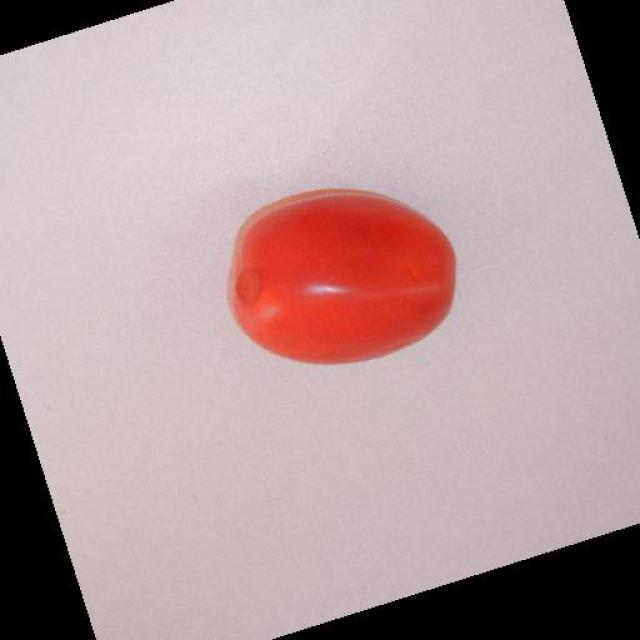Fresh_tomato: (231, 194, 458, 366)
